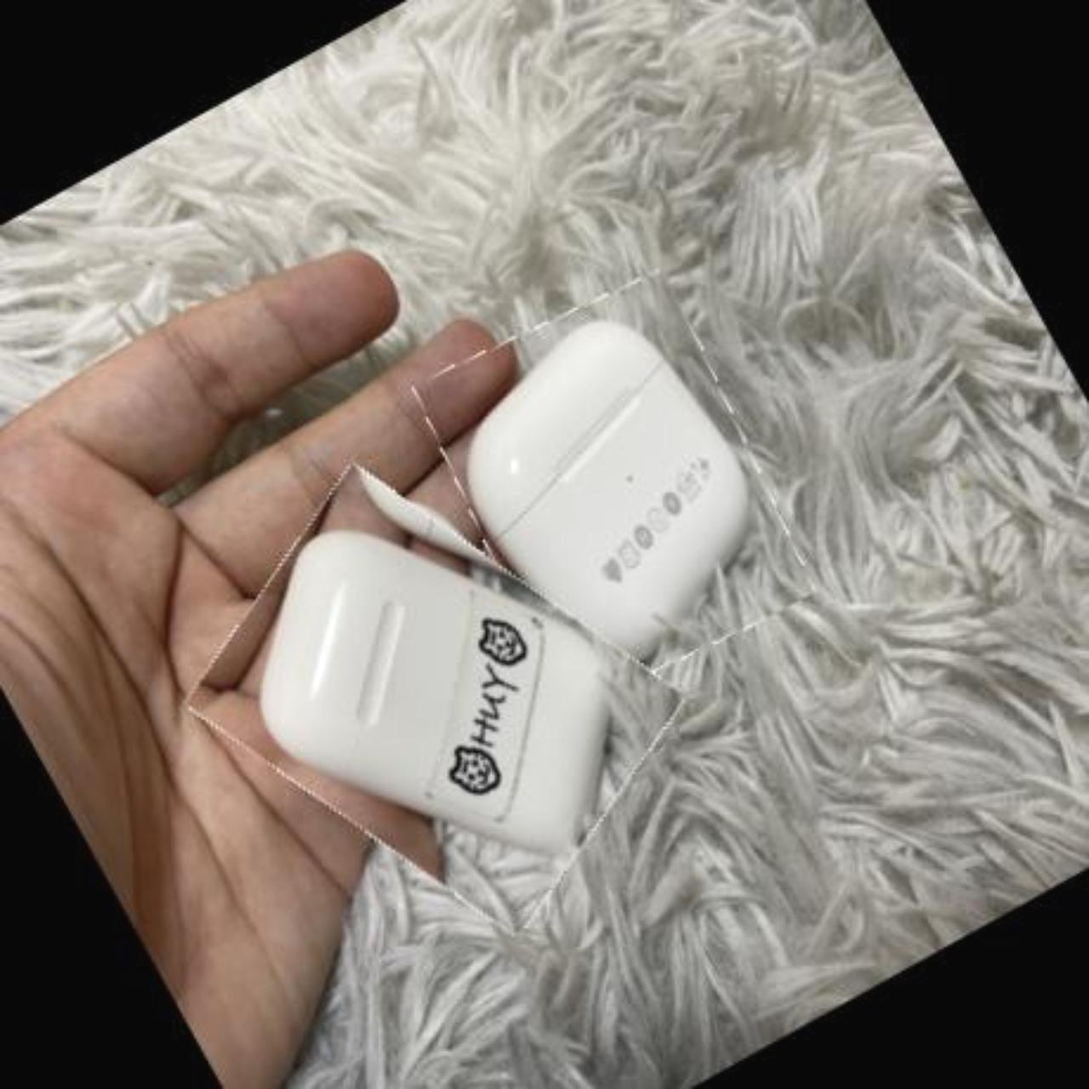AirPods: (166, 412, 703, 982), (398, 259, 829, 720)
